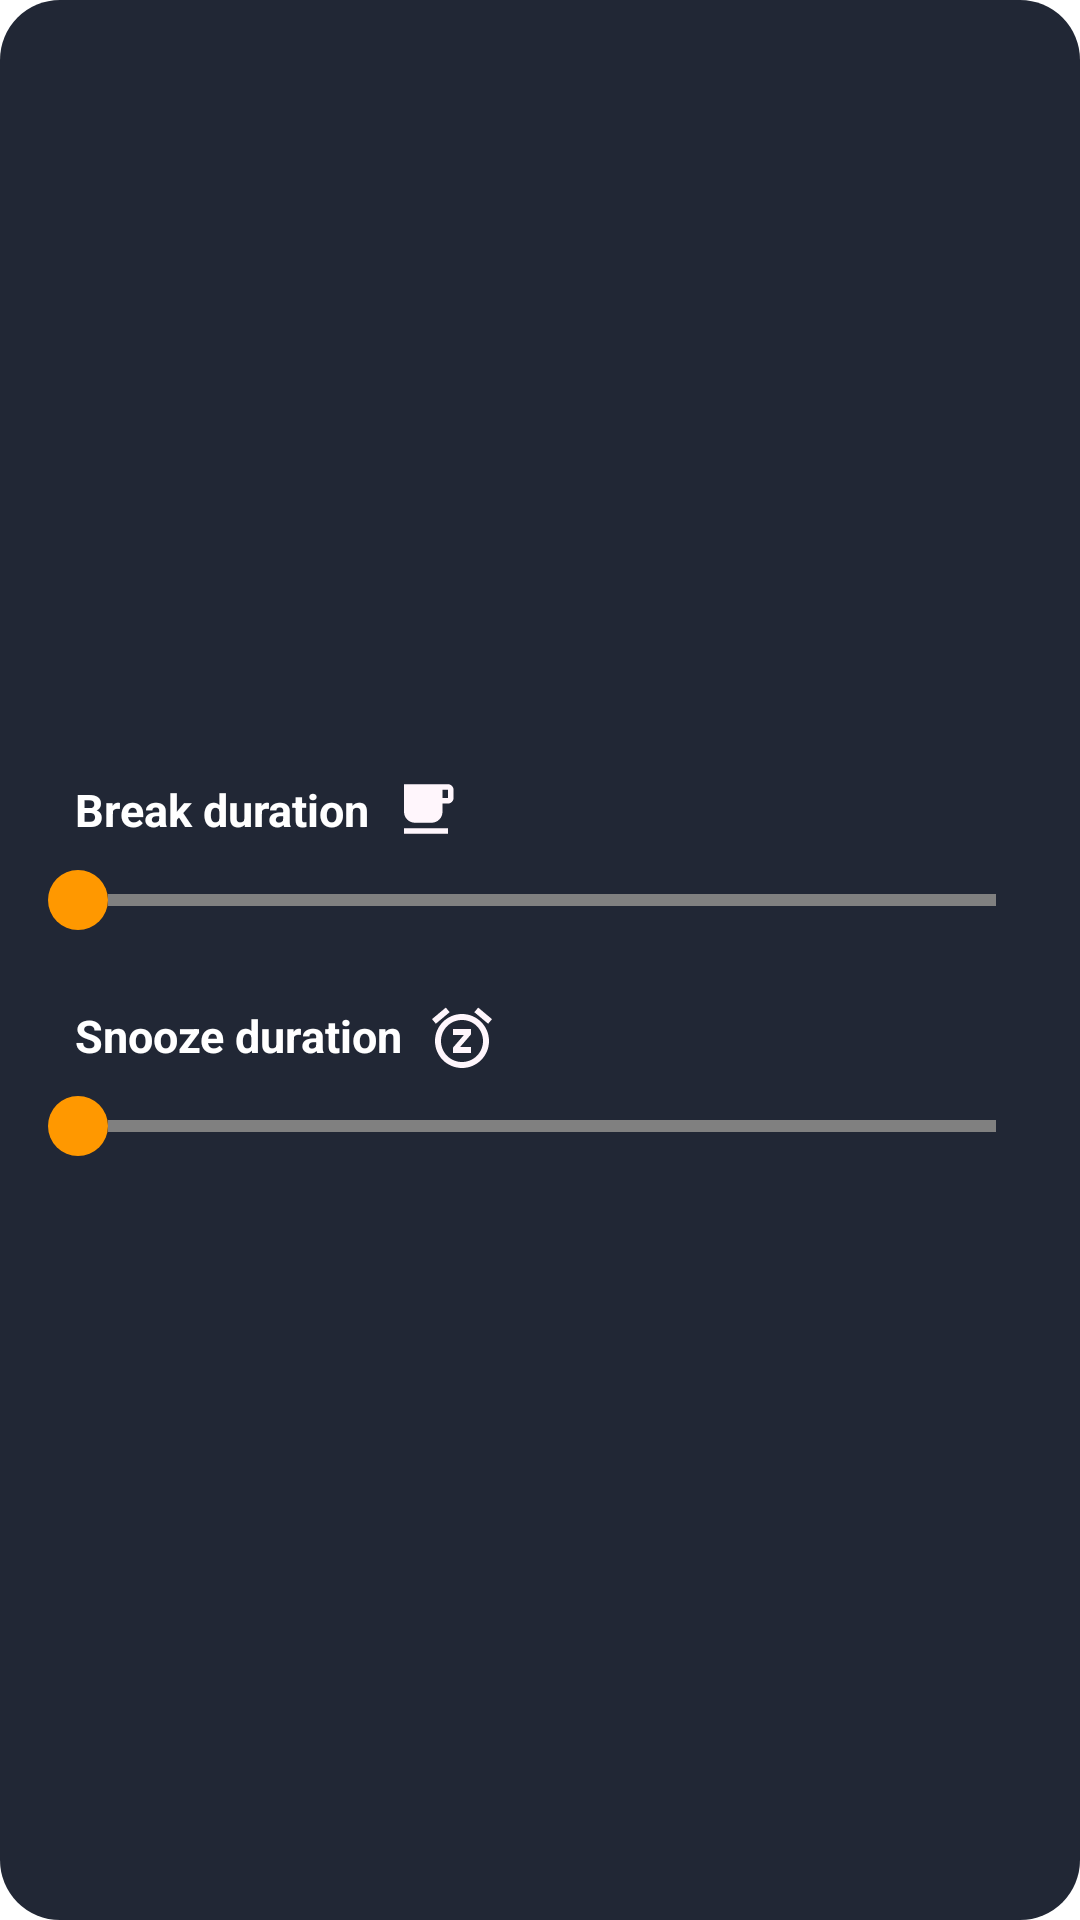

Screen size 1080×1920. Icon name, then its box in pixels as (x1, y1, x2, y2):
free breakfast configurations: (404, 784, 454, 834)
snooze configurations: (432, 1007, 492, 1068)
